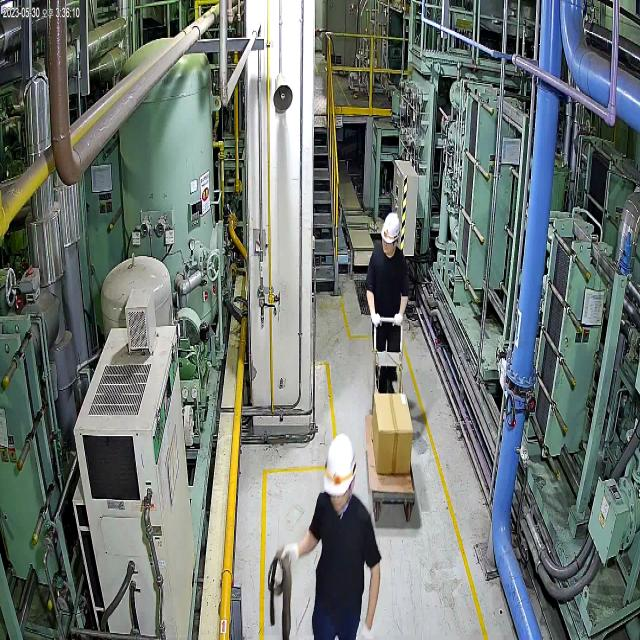worker: (271, 429, 396, 640), (360, 199, 416, 396)
